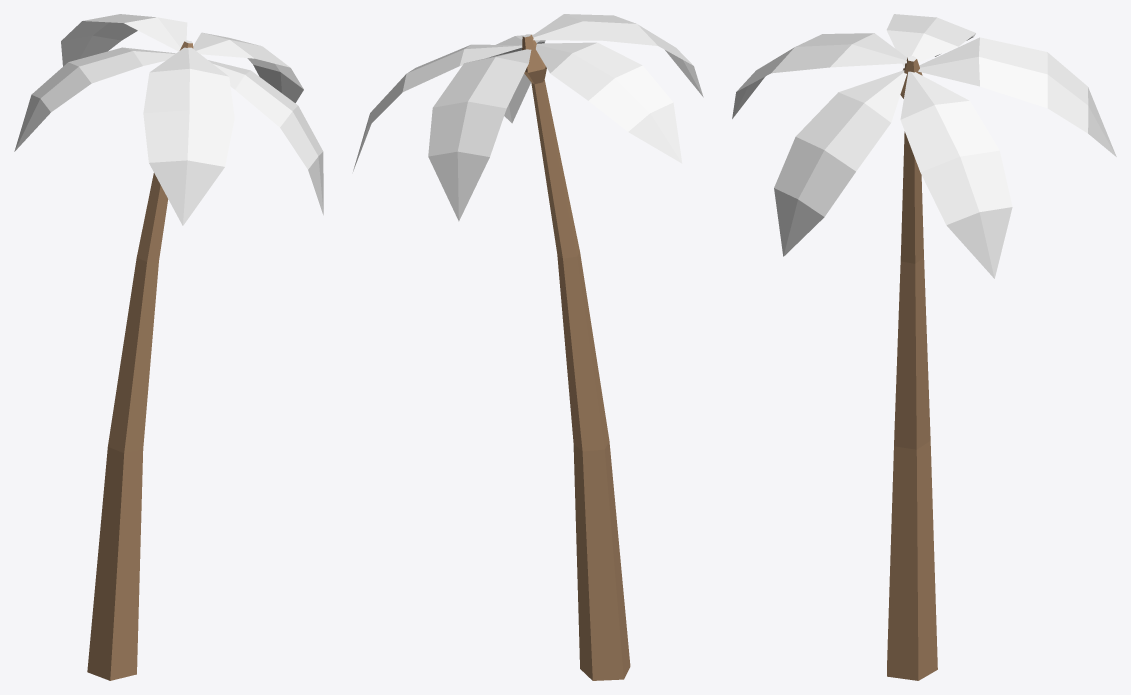
File: Palm_Tree_OneSided_s_Snow_02.fbx
The picture shows the model from 3 angles, left to right: view 1: azimuth 30°, elevation 25°; view 2: azimuth 150°, elevation 25°; view 3: azimuth 270°, elevation 25°; orthographic projection. The views are drawn at different scales.
Parts seen in each view (by area): view 1: Palm_Tree_OneSided_s_Snow_02; view 2: Palm_Tree_OneSided_s_Snow_02; view 3: Palm_Tree_OneSided_s_Snow_02.
Part boxes in pixels (bbox=[...]): Palm_Tree_OneSided_s_Snow_02: bbox=[14, 14, 323, 680]; Palm_Tree_OneSided_s_Snow_02: bbox=[353, 14, 703, 680]; Palm_Tree_OneSided_s_Snow_02: bbox=[732, 14, 1116, 680].
Bounding box in the file's own units: 243 × 478 × 255.
